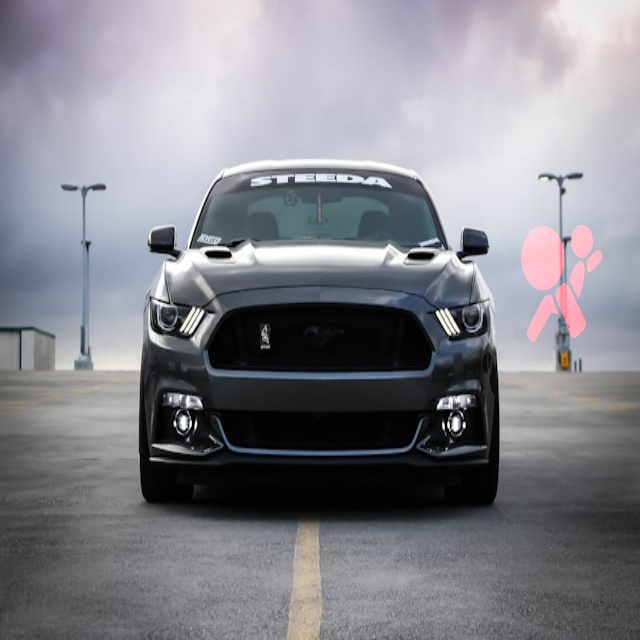symbol: (478, 201, 635, 358)
